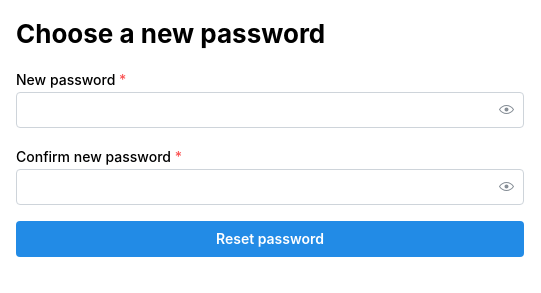
Test: ResetPasswordPage › rejects mismatched confirmation passwords
Step 1. Type "longenough1" into the password field labelled "New password *" → (270, 110), box [17,93,523,127]
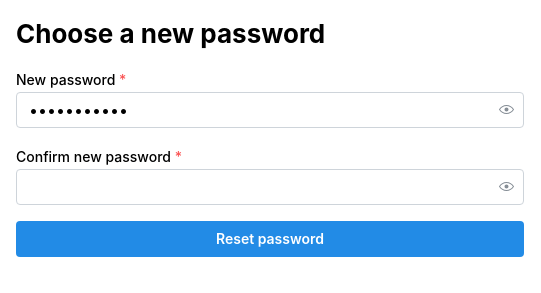
Step 2. Type "differentpwd1" into the password field labelled "Confirm new password *" → (270, 187), box [17,170,523,204]
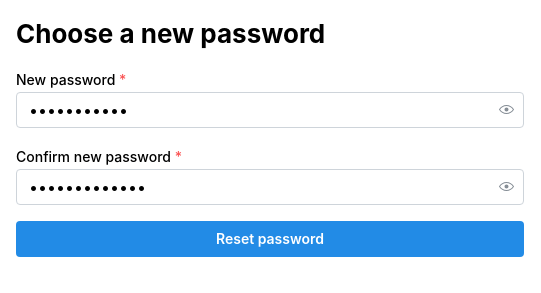
Step 3. Submit the form "Reset password"
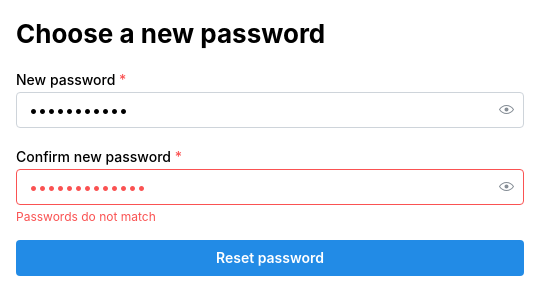
Check: the text "Passwords do not match" is shown, box [16,209,156,224]
